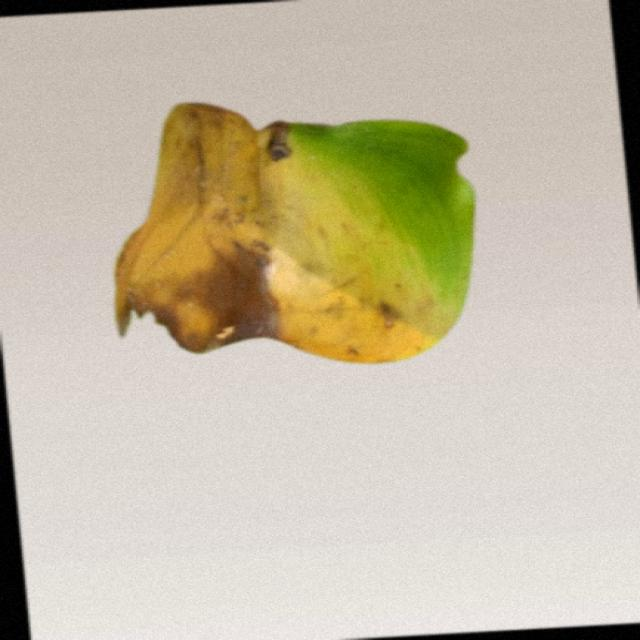daun berpenyakit kuning: (115, 104, 475, 362)
